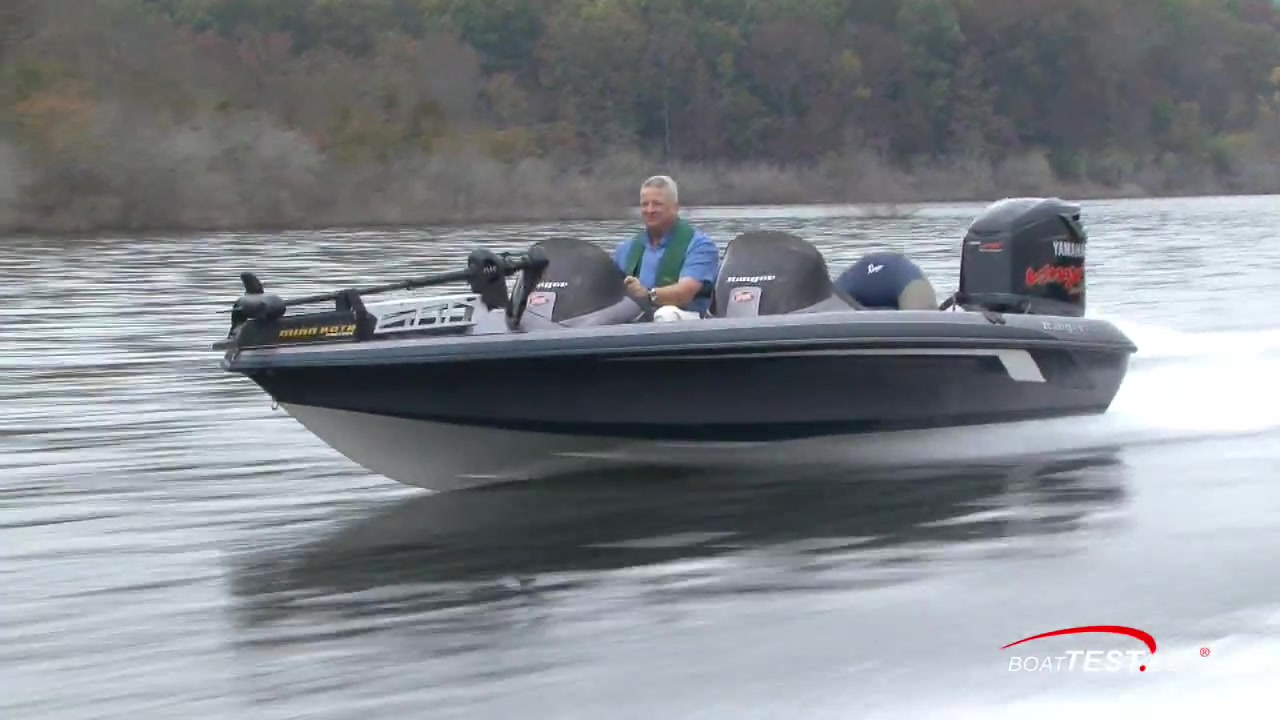boat: (209, 197, 1135, 497)
